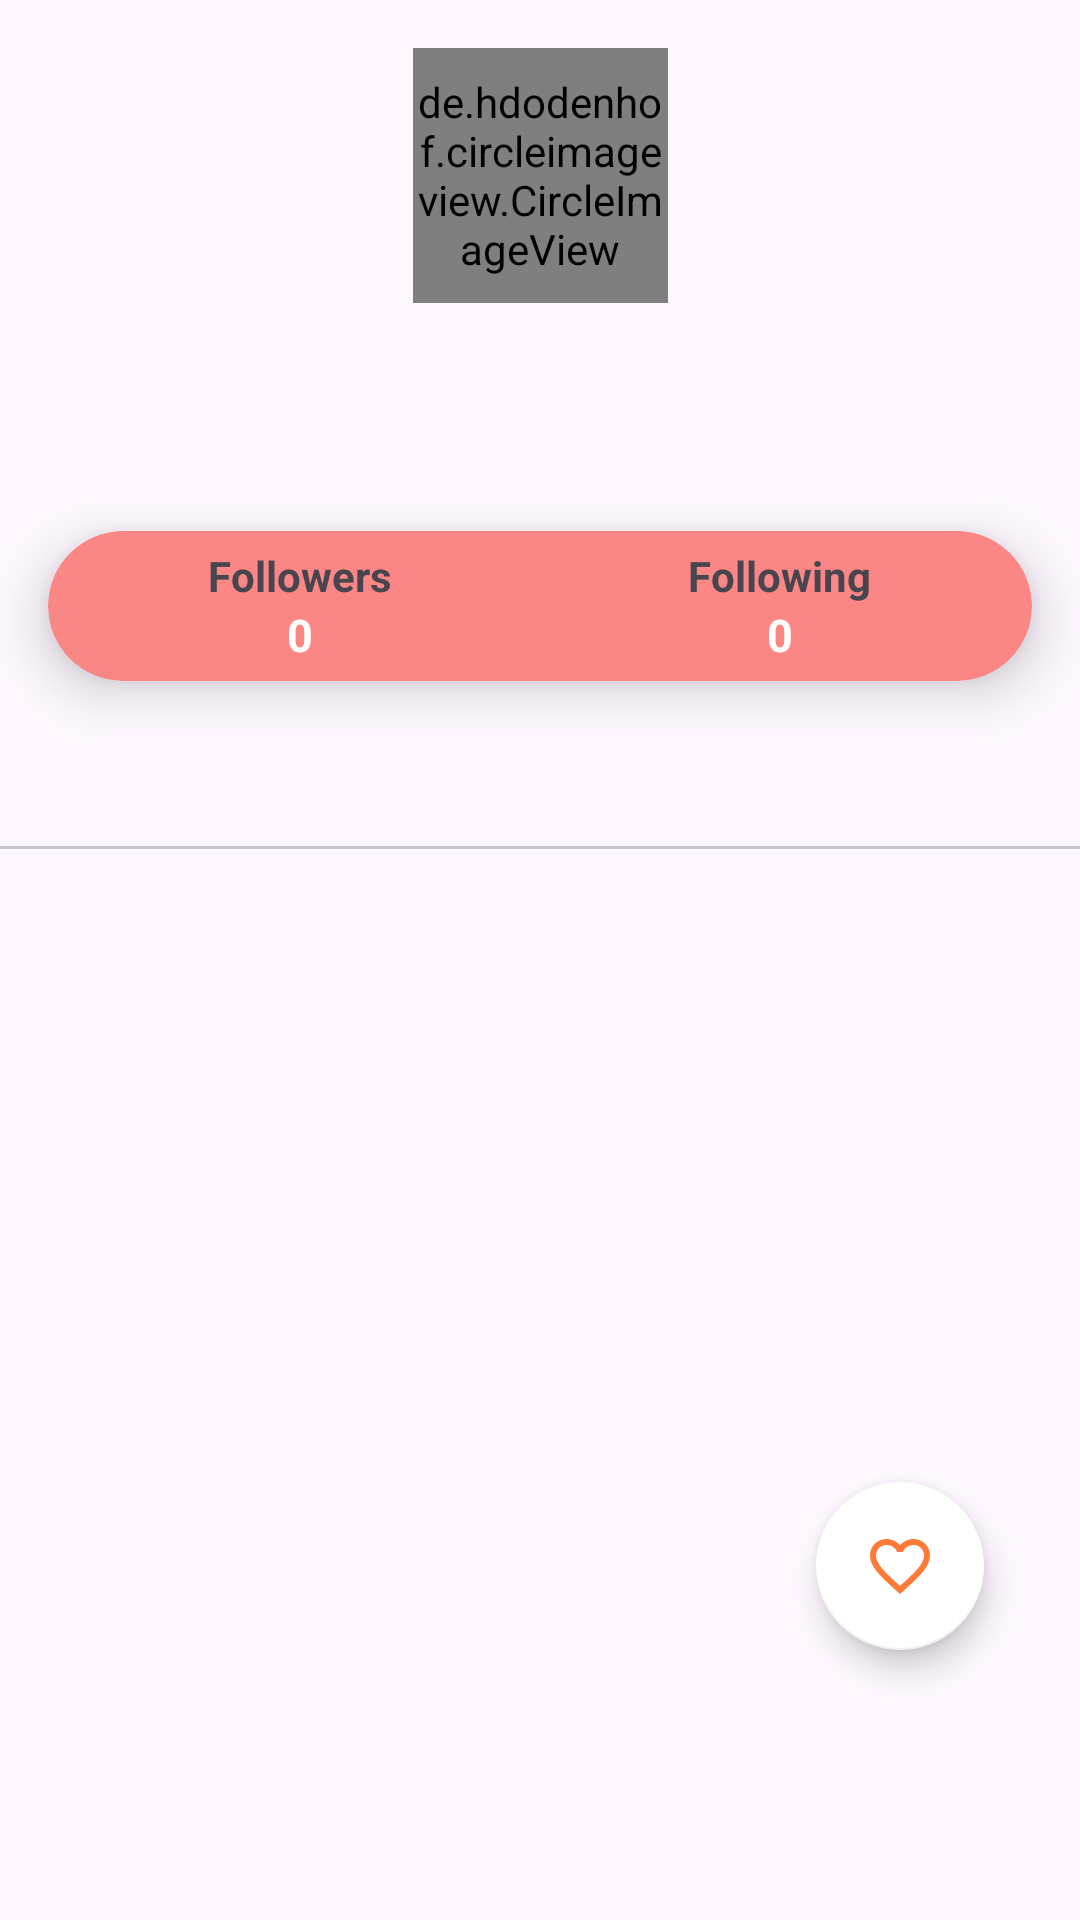

Screen size 1080x1920. Icon name, then its box in pixels as (x1, y1, x2, y2):
Favorite User: (816, 1482, 984, 1650)
